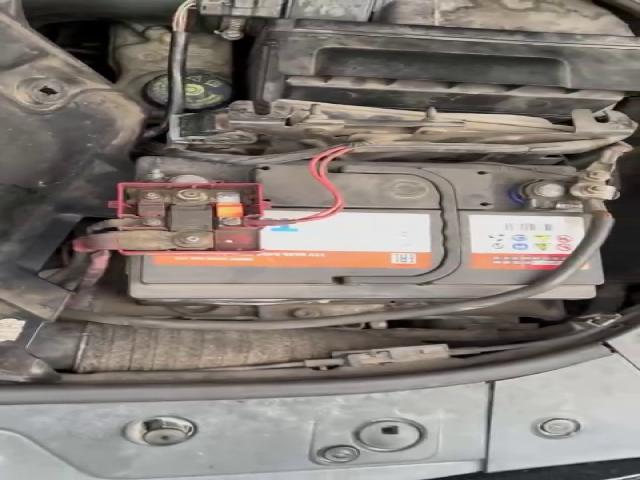accumulator: (105, 156, 600, 301)
